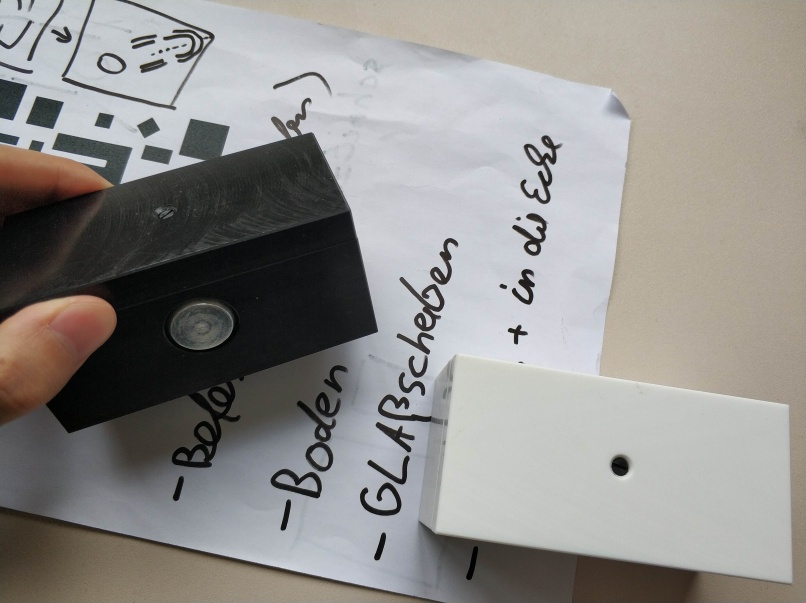black+black+silver: (1, 130, 380, 437)
